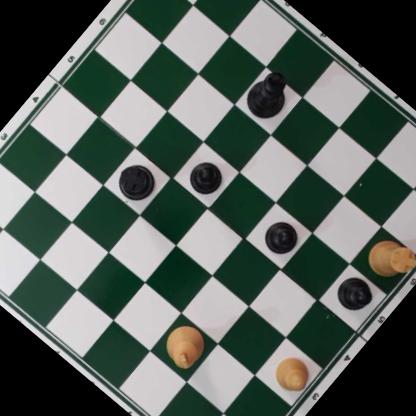black-king: (238, 61, 301, 126)
black-pawn: (331, 268, 381, 318), (181, 152, 231, 202), (258, 213, 305, 261)
black-rook: (109, 156, 163, 210)
white-king: (156, 314, 214, 373)
white-pawn: (266, 347, 318, 399)
white-rook: (362, 229, 416, 288)
